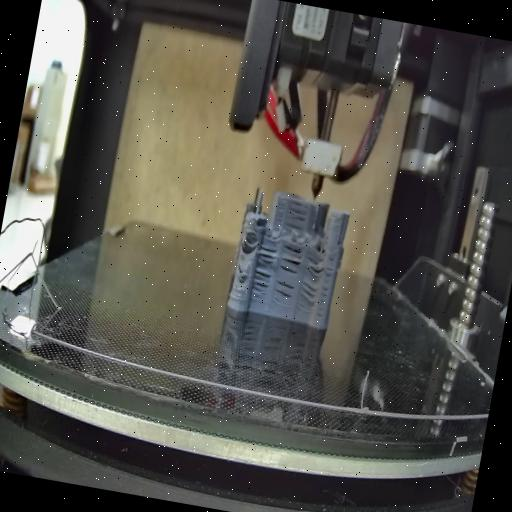cracks: (316, 254, 336, 318), (276, 244, 304, 278), (282, 198, 308, 234), (247, 270, 272, 302), (268, 280, 294, 310), (296, 280, 320, 306), (256, 244, 278, 268), (303, 256, 325, 279), (238, 236, 254, 255), (334, 232, 342, 246), (237, 262, 245, 276)
